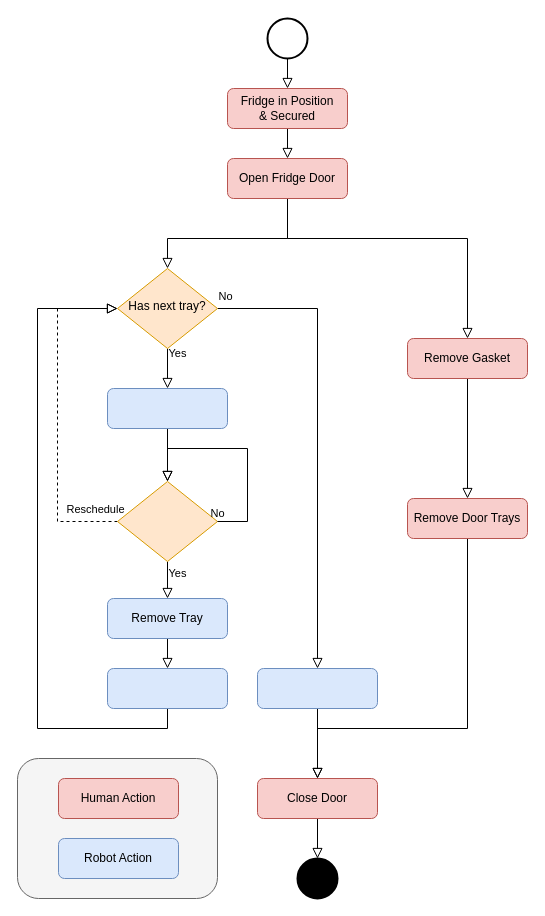
The diagram is 545 pixels wide and 916 high, and some of its shapes have lost their labels. The shapes that lost their labels are listed below. From the top down, each one's box as (x1, y1, x2, y2) in pixels, then its label:
(106, 388, 228, 428): Approximate to Tray
(116, 480, 218, 562): Picking area clear?
(106, 668, 228, 708): Place Tray on Stack
(256, 668, 378, 708): Notify Completion
